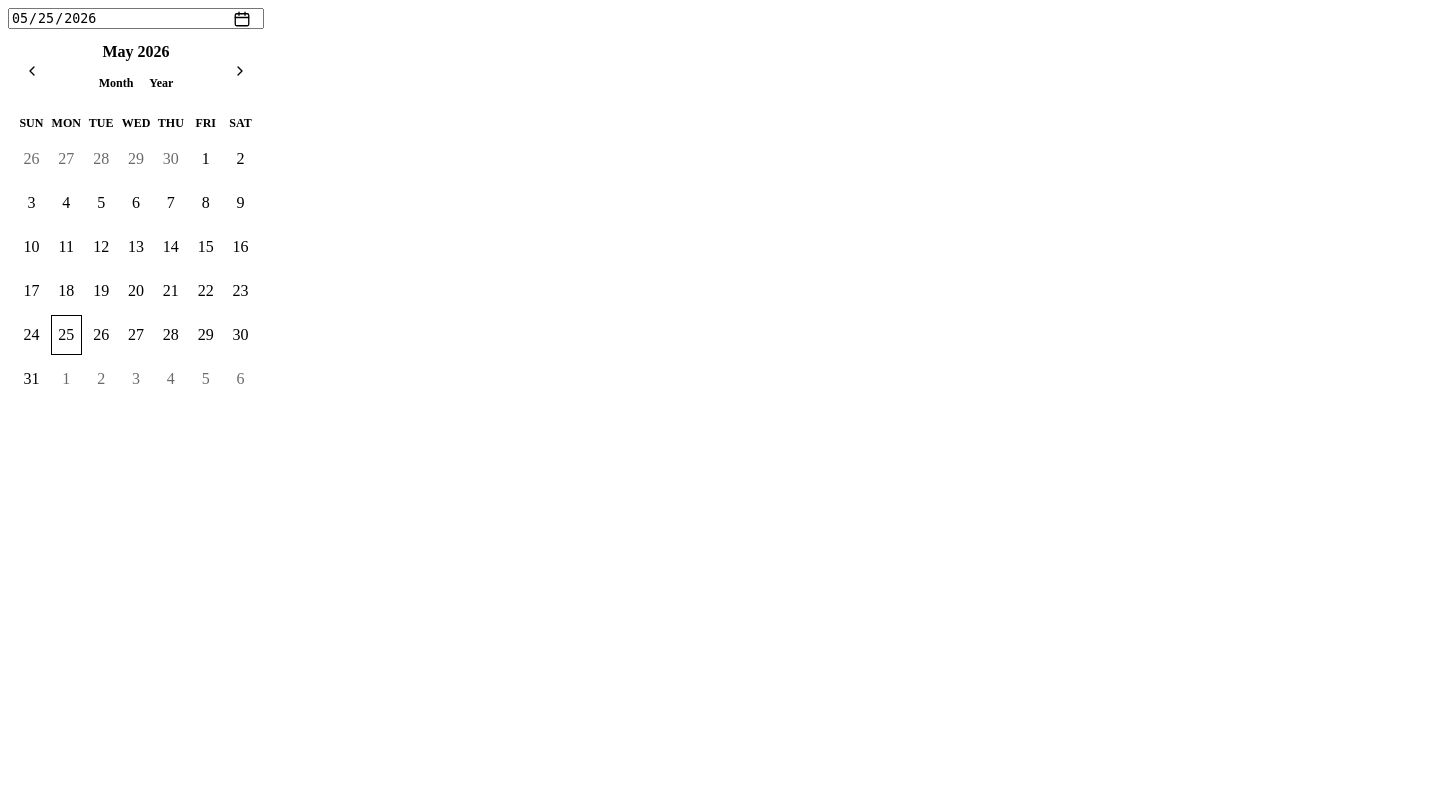
Test case: DatePicker › browses year and month without committing until an enabled day is selected
Click the button "Year" at (161, 83), box [143,67,179,99]
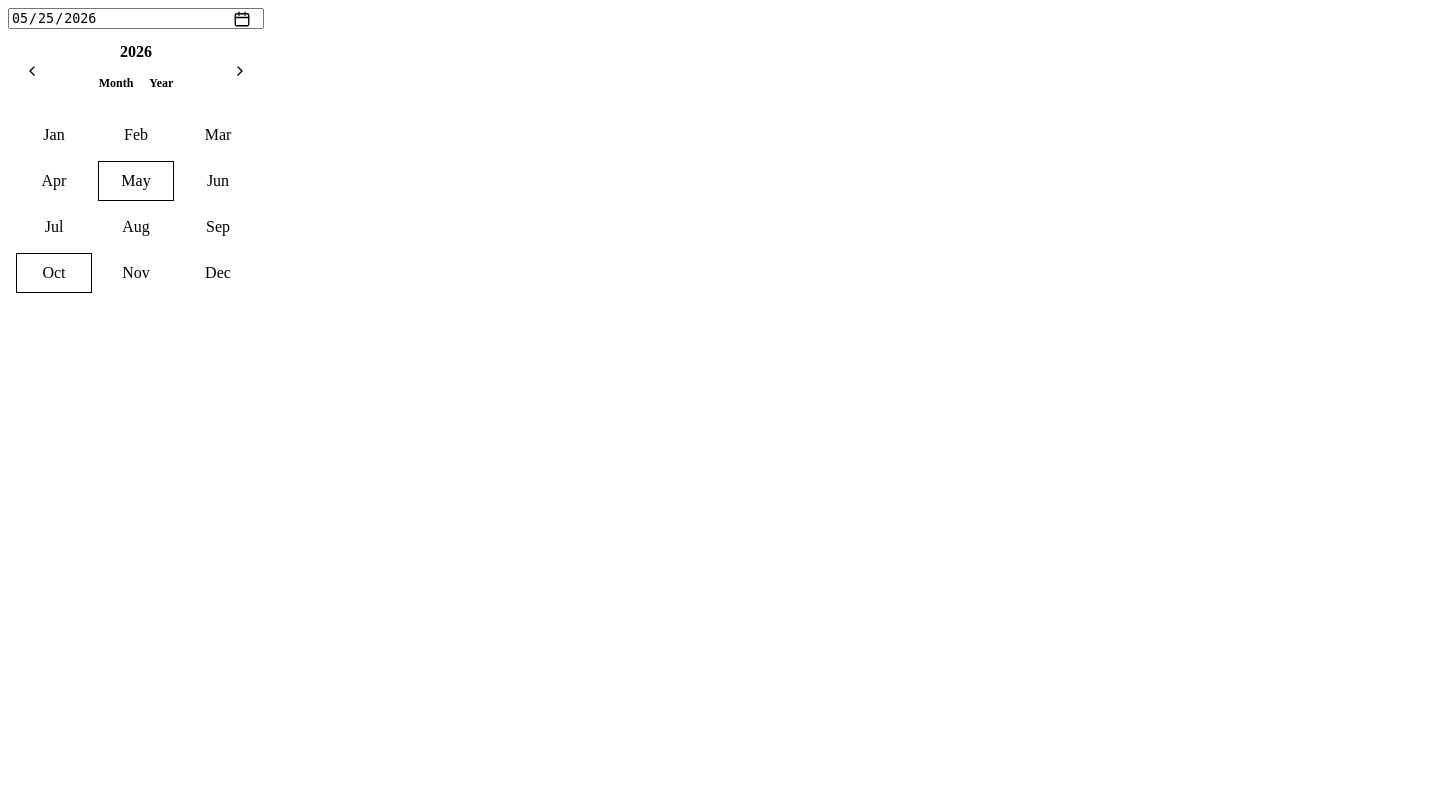
Now the element with class "calendar-month-grid" is shown, box [16,115,256,293]
Click the button named "Next panel" at (240, 71), box [224,55,256,87]
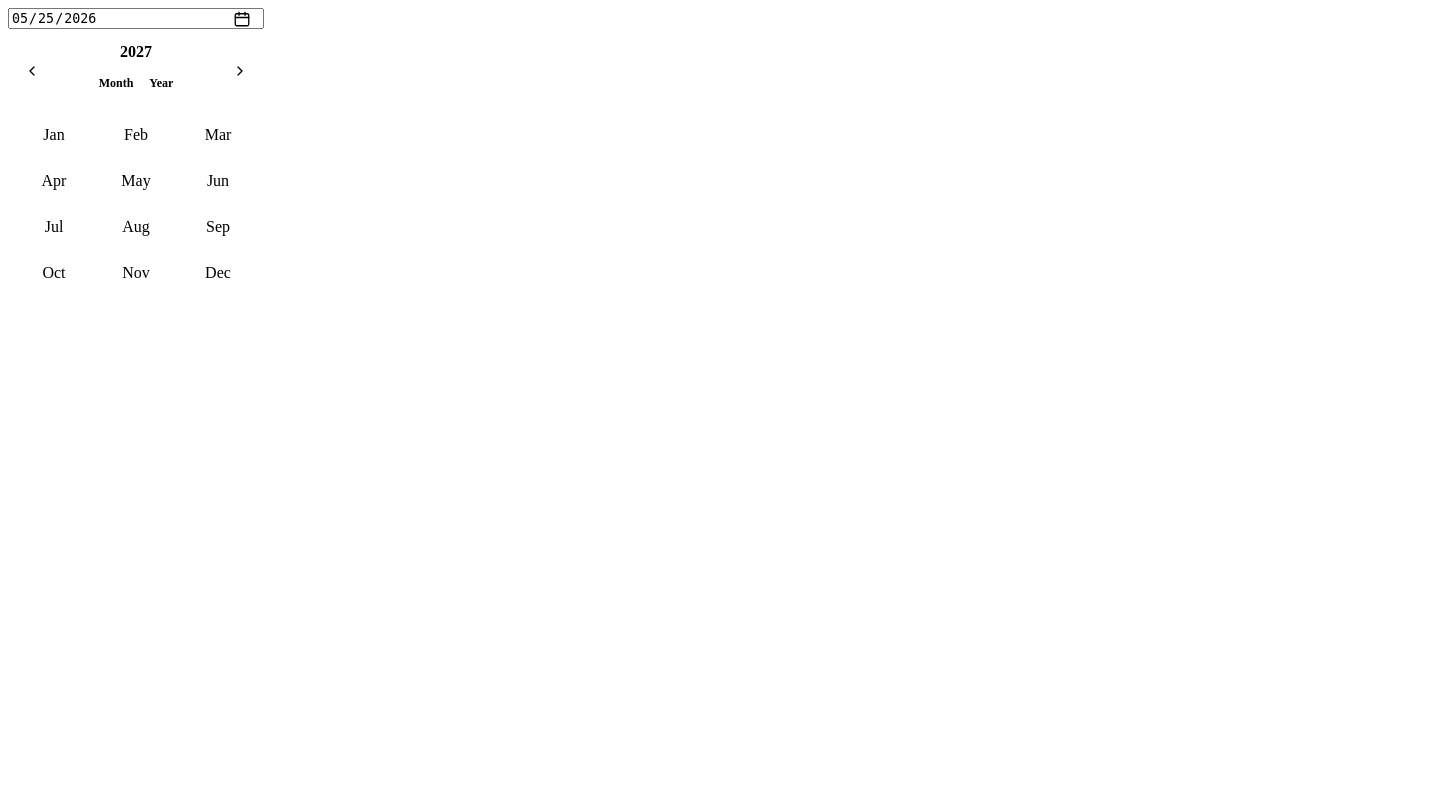
Now the button with aria-label "2027-08-01" is enabled
Now the text "2027" is shown, box [120,43,152,61]
Click the button with aria-label "2027-08-01" at (136, 227), box [98,207,174,247]
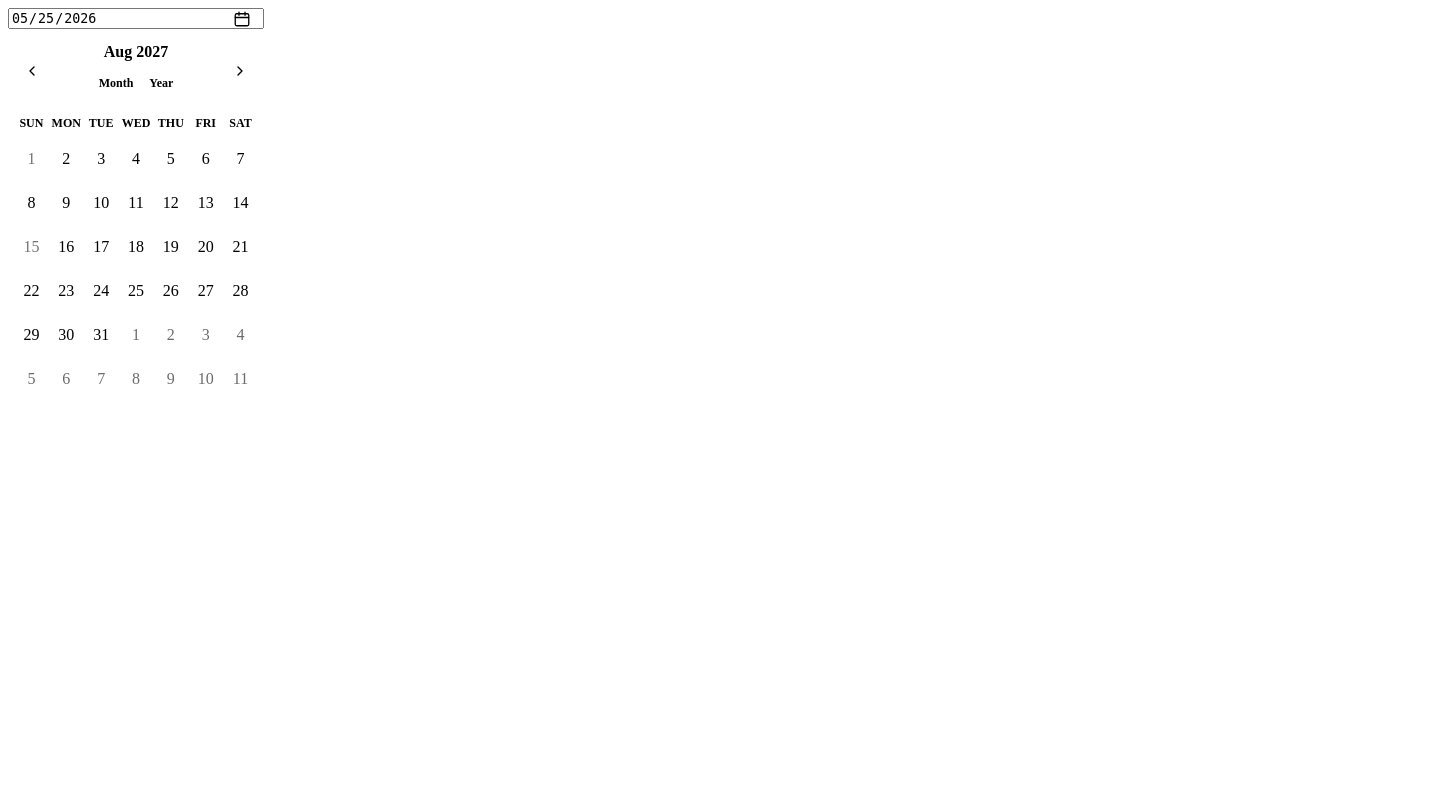
Expected: the date field showing "2026-05-25" is shown, [8,8,264,29]
Now the element with class "calendar-date-grid" is shown, box [16,139,256,399]
Now the button named "2027-08-15" is disabled, box [16,227,47,267]
Click the button named "2027-08-16" at (66, 247), box [51,227,82,267]
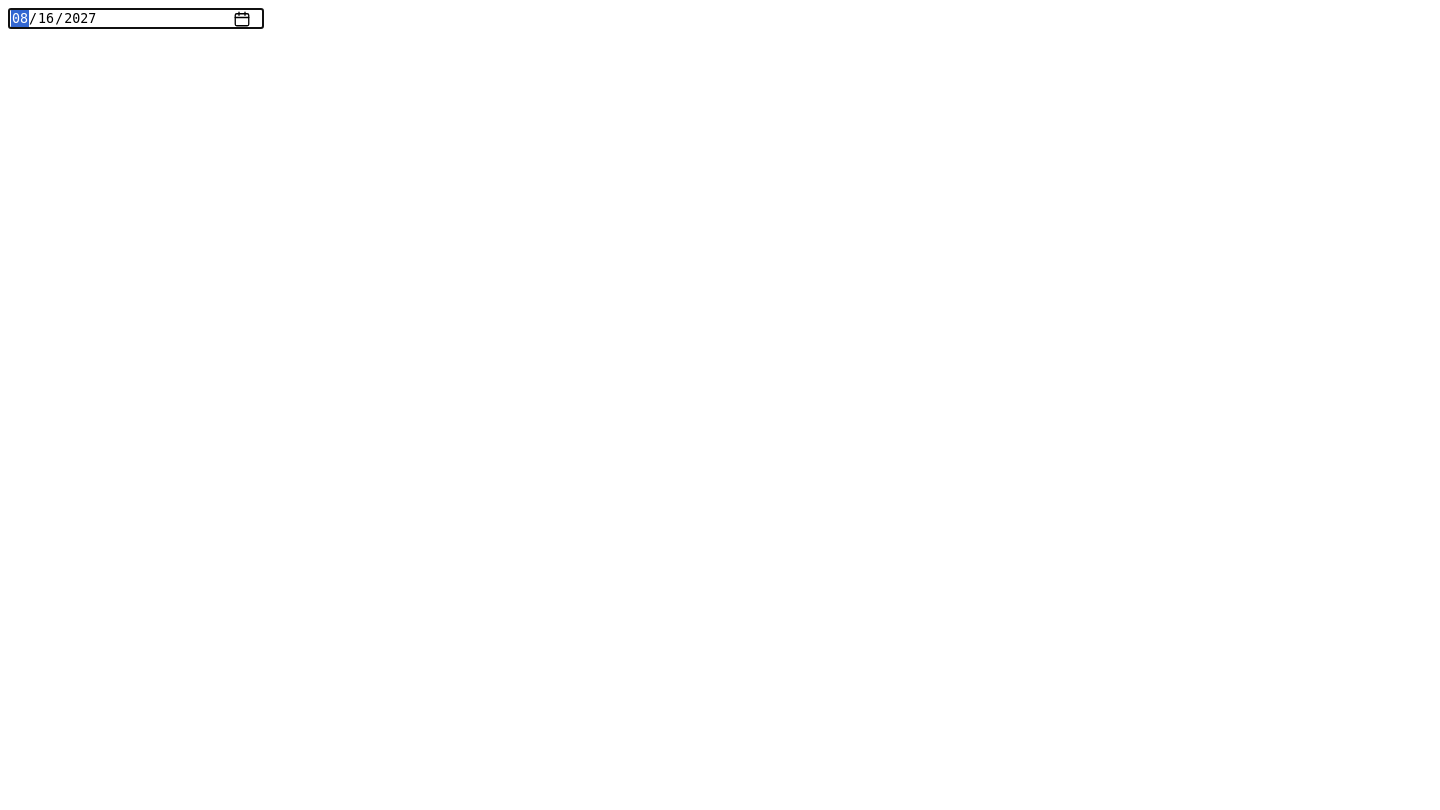
Now the dialog is gone
